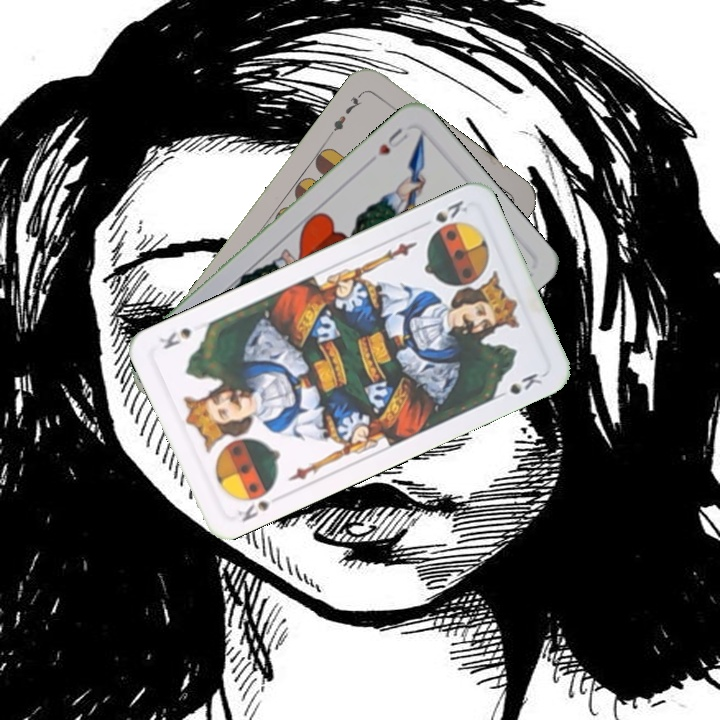E7: (324, 88, 366, 139)
HU: (373, 124, 411, 158)
SK: (232, 482, 278, 525), (429, 196, 471, 235)
